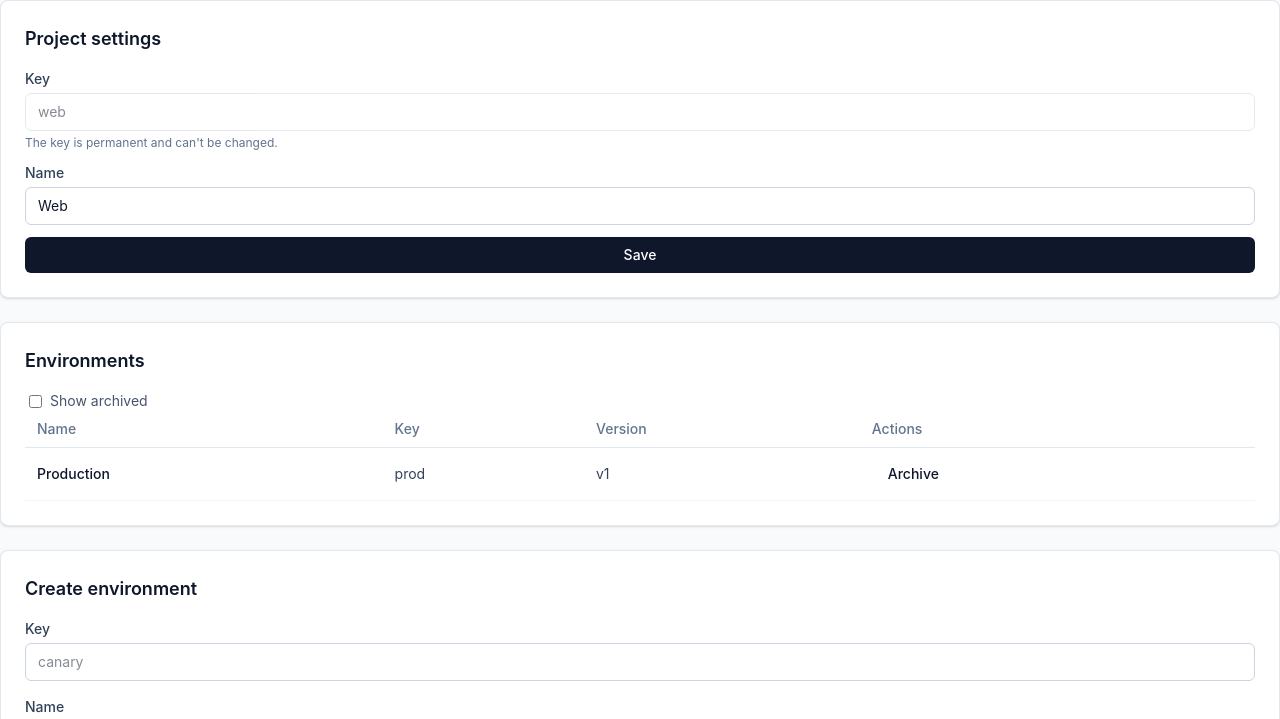
Scenario: ProjectEnvironmentsRoute archive/restore › sends PATCH { archived: true } when archiving an active env
Check: the link "Production" is shown, box [37,465,110,482]
Click the button "Archive" at (913, 474), box [872,456,955,492]
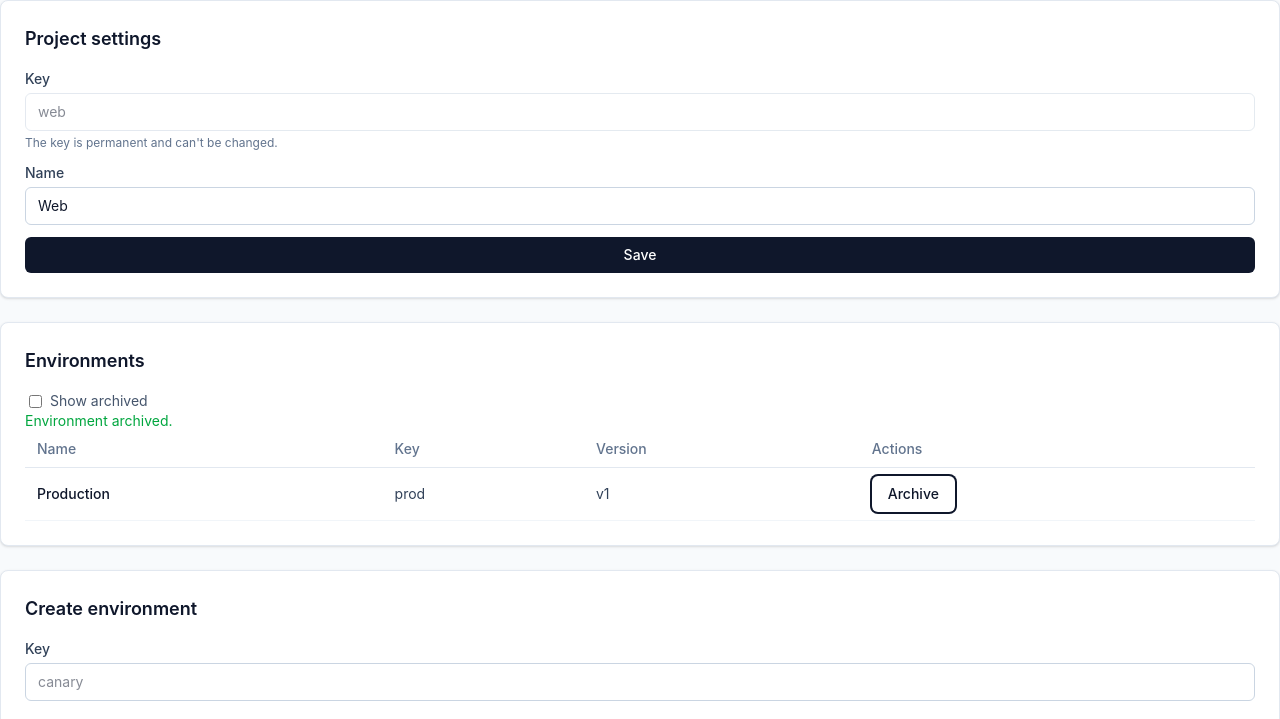
Check: the text "Environment archived." is shown, box [25,412,173,429]
